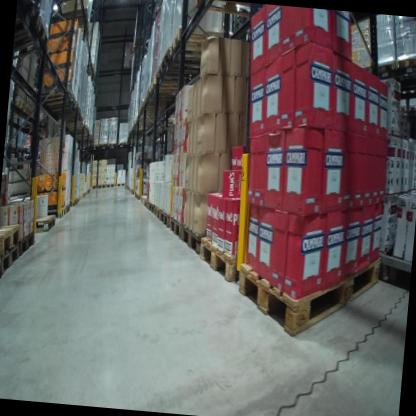pallet: (232, 230, 390, 349), (198, 218, 271, 289), (168, 25, 238, 64), (192, 1, 263, 28), (13, 17, 52, 64), (180, 213, 221, 257), (159, 47, 208, 73), (36, 83, 75, 115), (154, 61, 206, 85), (0, 237, 23, 282), (56, 1, 93, 28), (148, 78, 195, 99), (0, 219, 24, 260), (16, 0, 43, 33), (28, 212, 56, 238), (19, 228, 38, 259), (395, 53, 416, 76), (372, 59, 396, 79), (11, 103, 35, 122), (167, 213, 184, 239), (158, 205, 173, 230), (11, 97, 27, 115), (396, 99, 411, 117), (0, 254, 5, 287), (86, 63, 97, 77), (57, 204, 67, 219), (154, 203, 162, 221), (407, 99, 416, 113), (148, 200, 155, 215), (116, 181, 126, 190), (140, 195, 147, 207), (118, 140, 130, 147), (98, 140, 108, 148), (144, 198, 151, 209), (66, 203, 72, 214), (97, 183, 107, 189), (108, 141, 118, 147), (72, 197, 78, 207), (106, 183, 115, 189), (92, 143, 99, 149), (75, 196, 81, 203), (89, 184, 97, 189)
